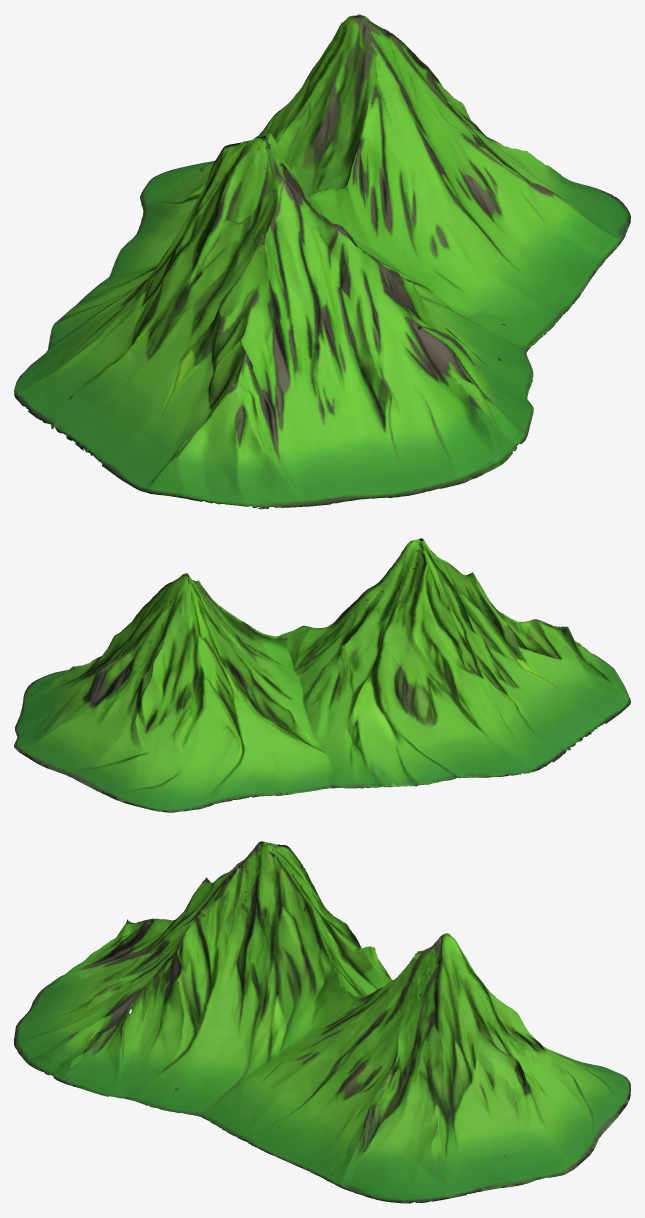
The model's file is Green_Peaks.glb.
3 renders of one model, top to bottom at view 1: azimuth 30°, elevation 25°; view 2: azimuth 150°, elevation 25°; view 3: azimuth 270°, elevation 25°, orthographic. The views are drawn at different scales.
Size of the model in its own units: 1.93 by 0.6823 by 2.
Materials: 1 (1 with a texture image).
